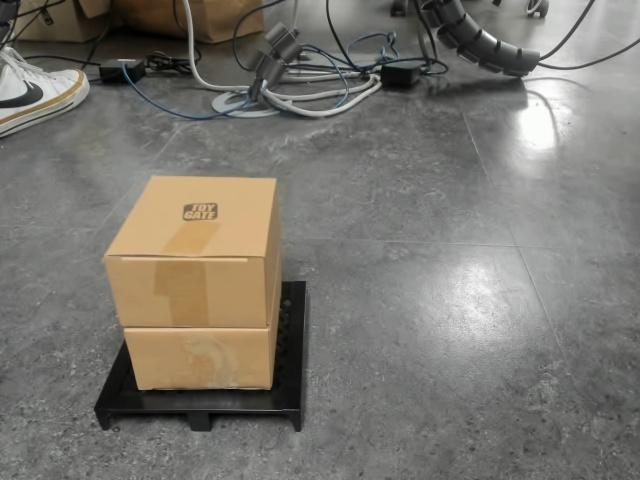box: (91, 173, 312, 433)
